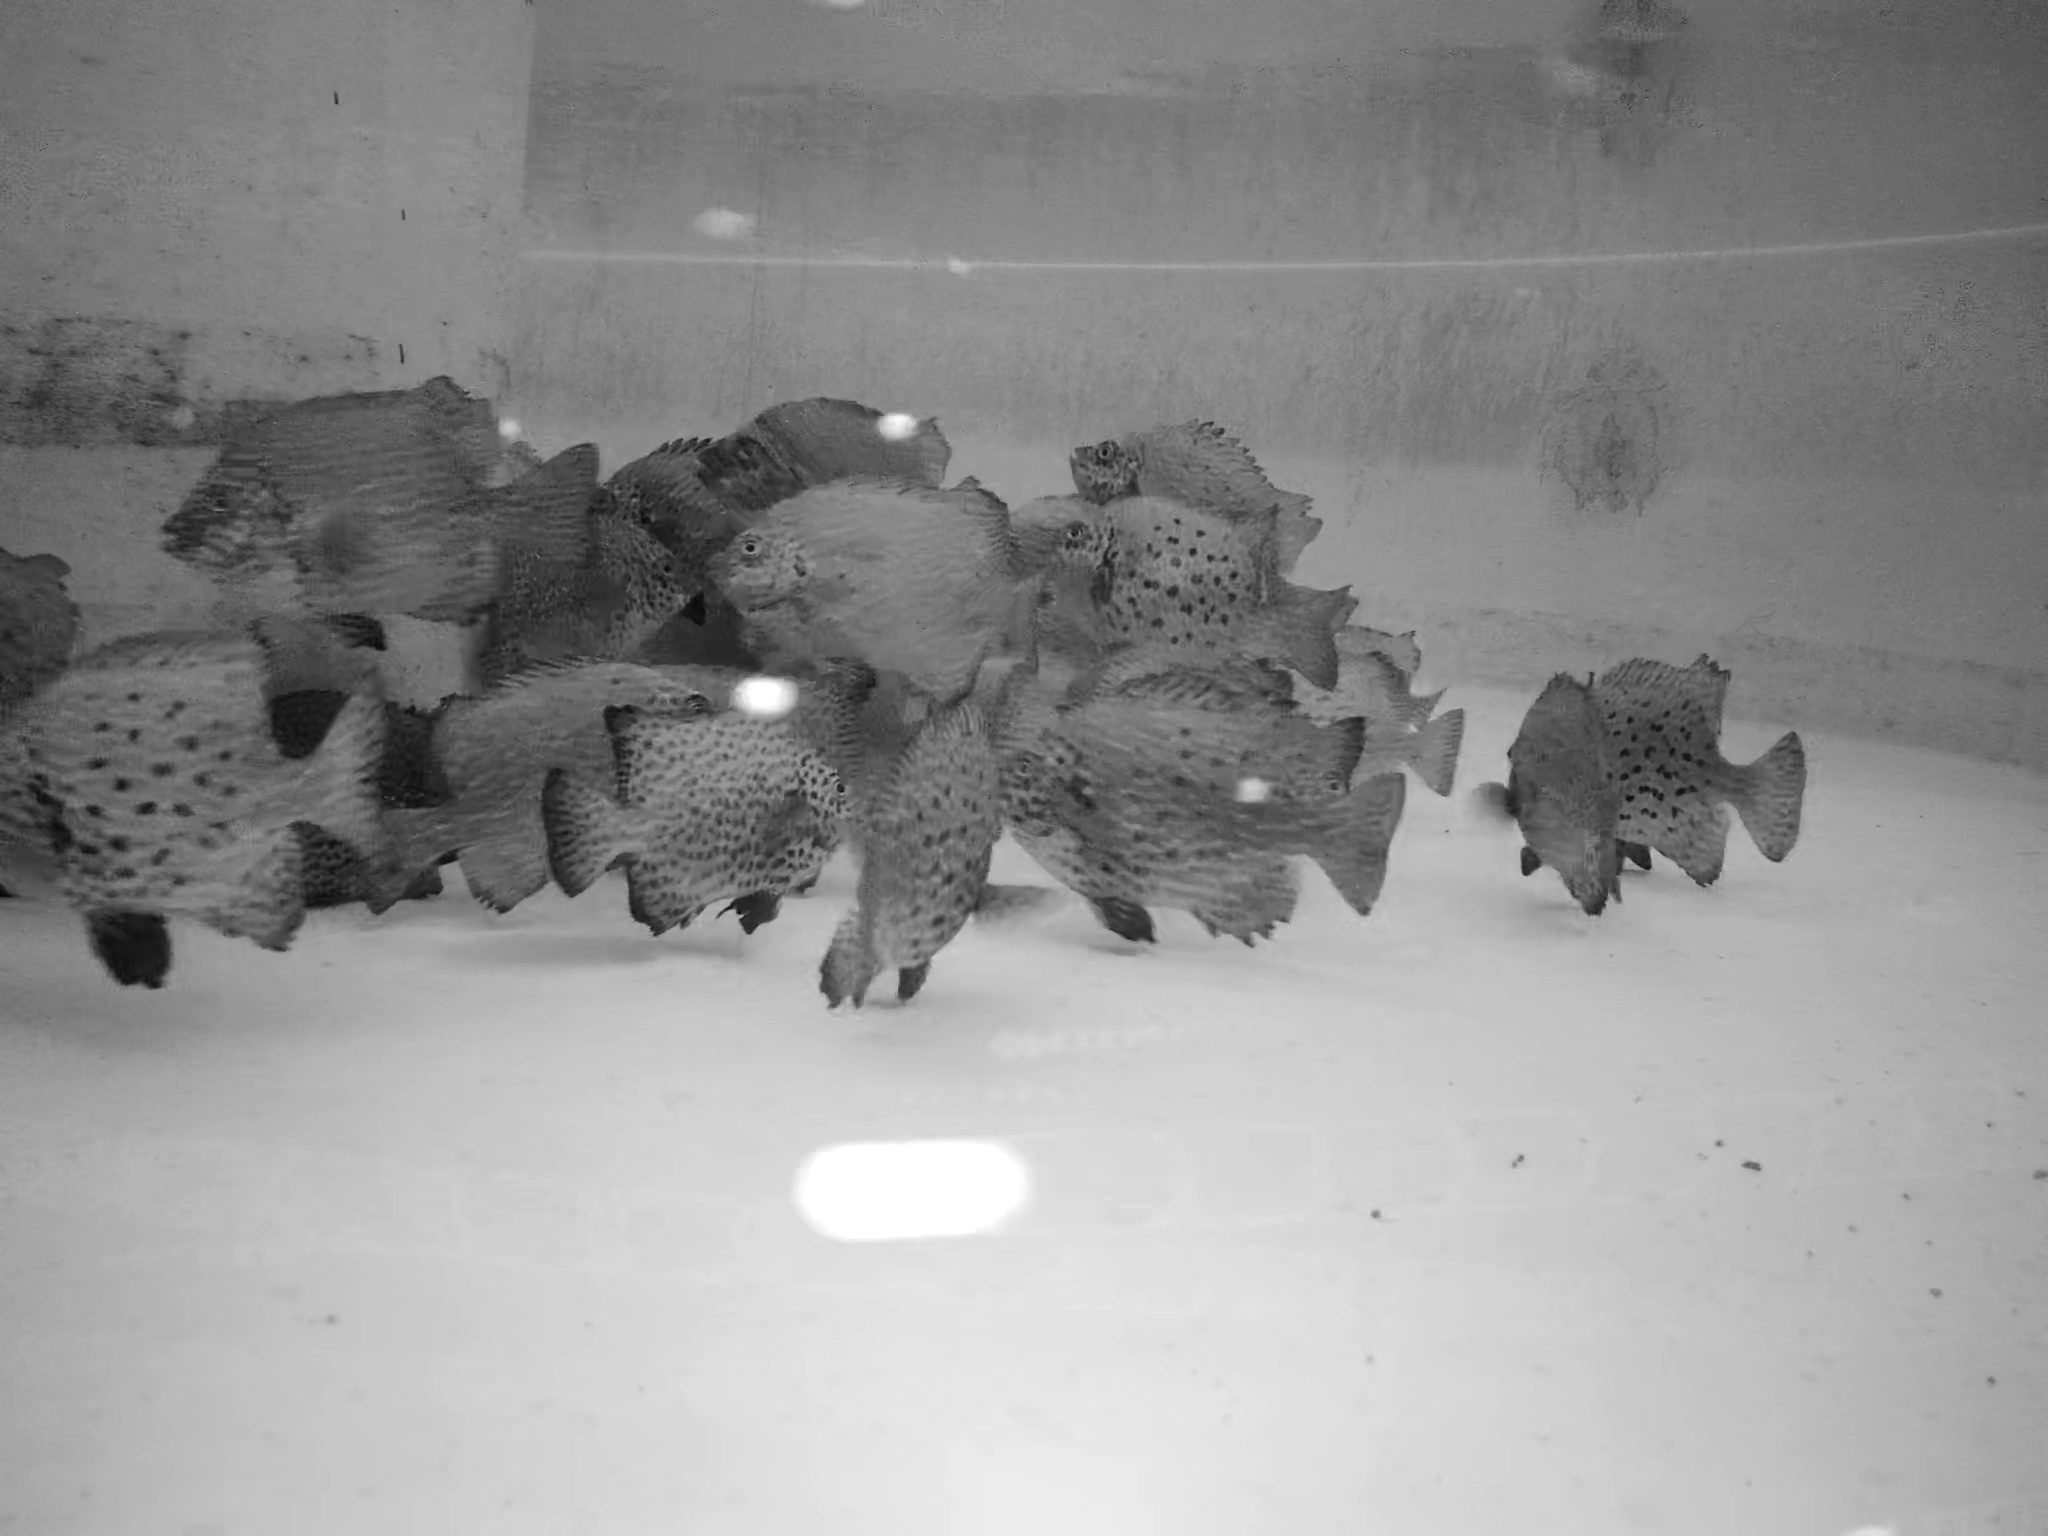fish: (5, 623, 382, 997), (158, 384, 603, 624), (998, 687, 1408, 945), (423, 678, 726, 916), (535, 703, 855, 929), (708, 487, 1035, 695), (1037, 507, 1348, 697), (829, 702, 1006, 1008), (1596, 657, 1806, 895), (1056, 415, 1327, 581), (698, 395, 956, 516), (1506, 670, 1617, 918), (522, 523, 701, 671), (1295, 662, 1474, 807), (597, 440, 813, 549), (3, 547, 77, 718), (1326, 623, 1422, 694)
